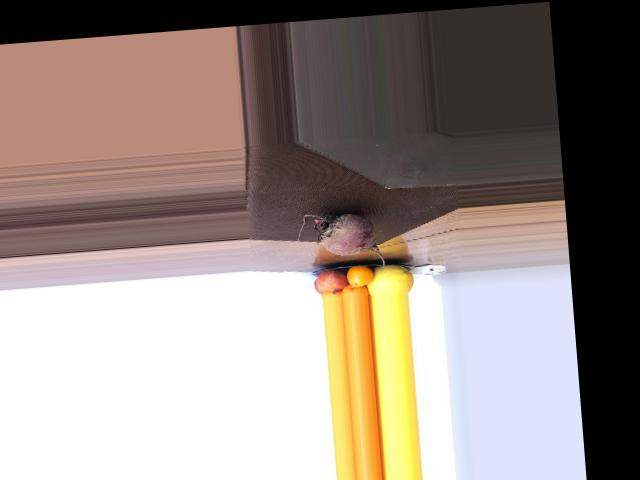beet: (296, 208, 386, 278)
